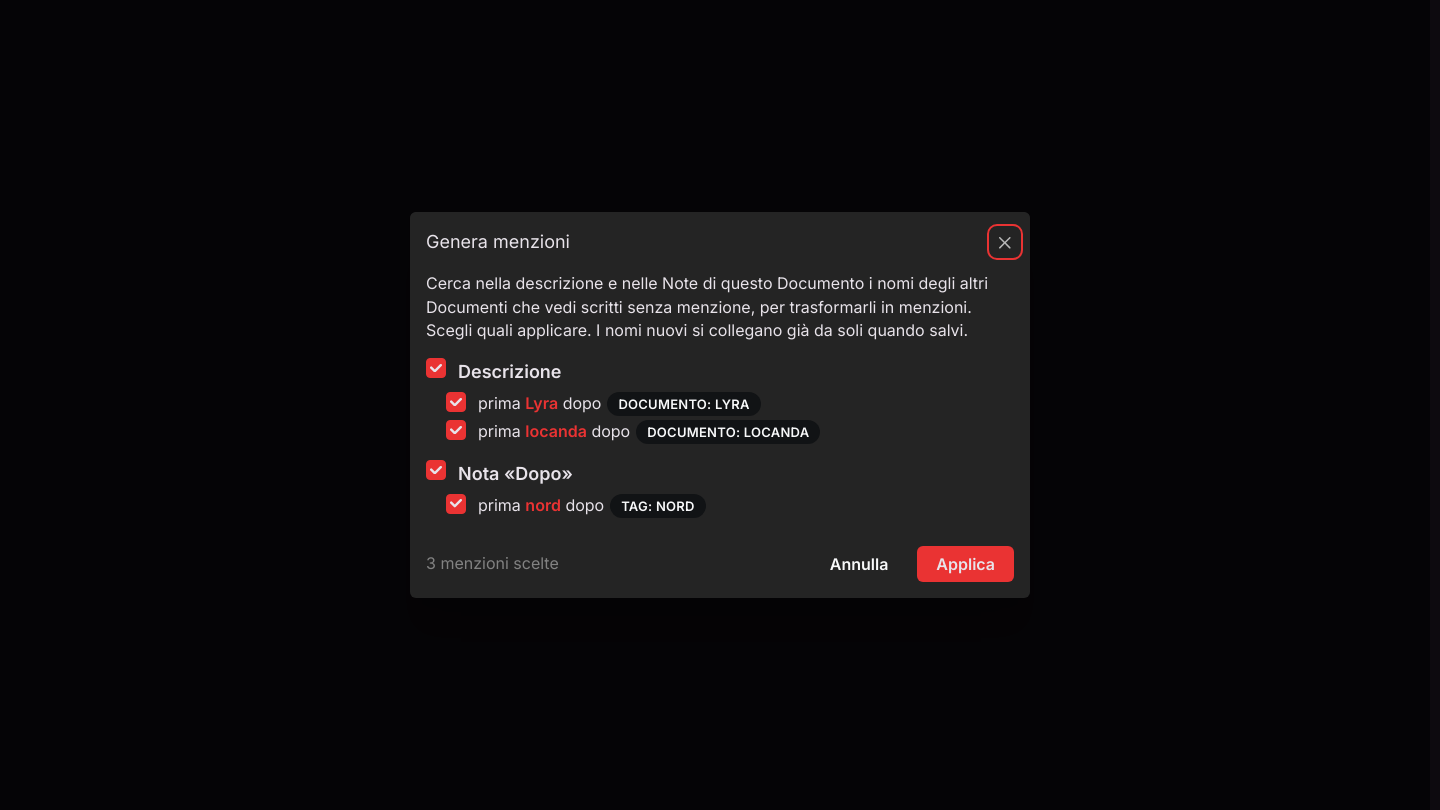
it: GenerateMentionsModal › a text checkbox clears and selects all of its matches
Click the checkbox labelled "Descrizione". click: [436, 368]
box: [426,358,446,378]
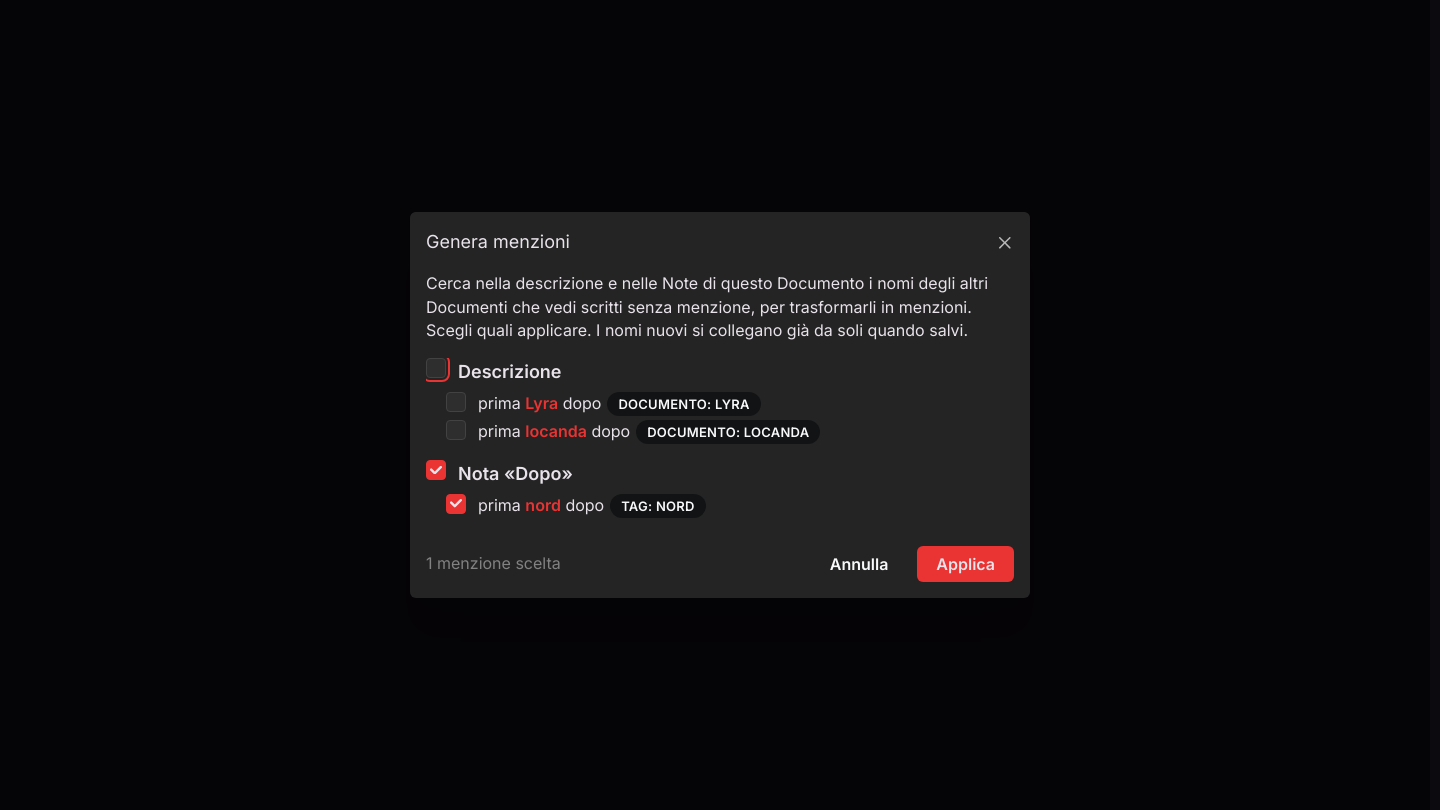
Expected: the text "1 menzione scelta" is shown, [426,552,561,575]
Click the checkbox labelled "Nota «Dopo»". click: [436, 470]
box: [426,460,446,480]
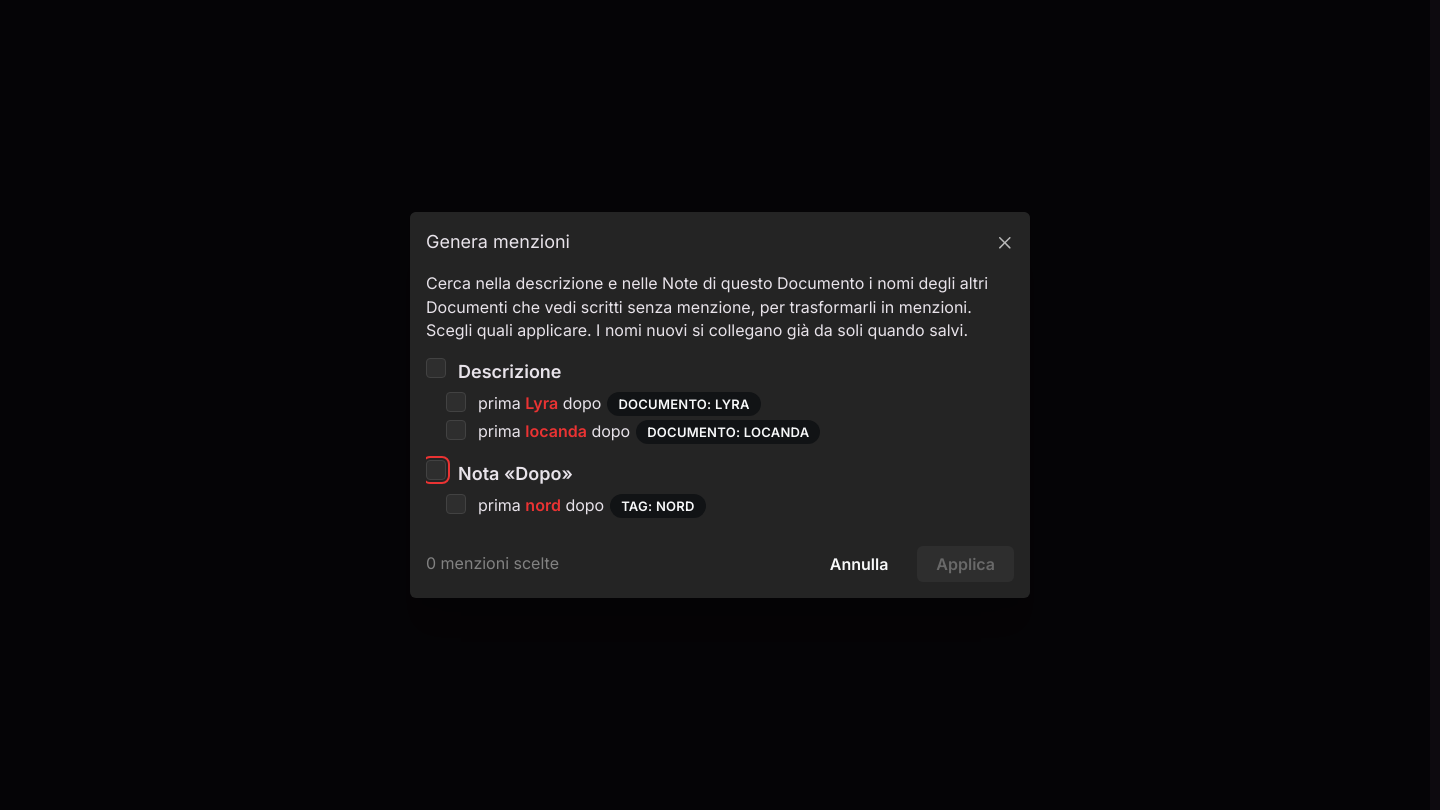
Expected: the button "Applica" is disabled, [917,546,1014,582]
Click the checkbox labelled "Descrizione". click: [436, 368]
box: [426,358,446,378]
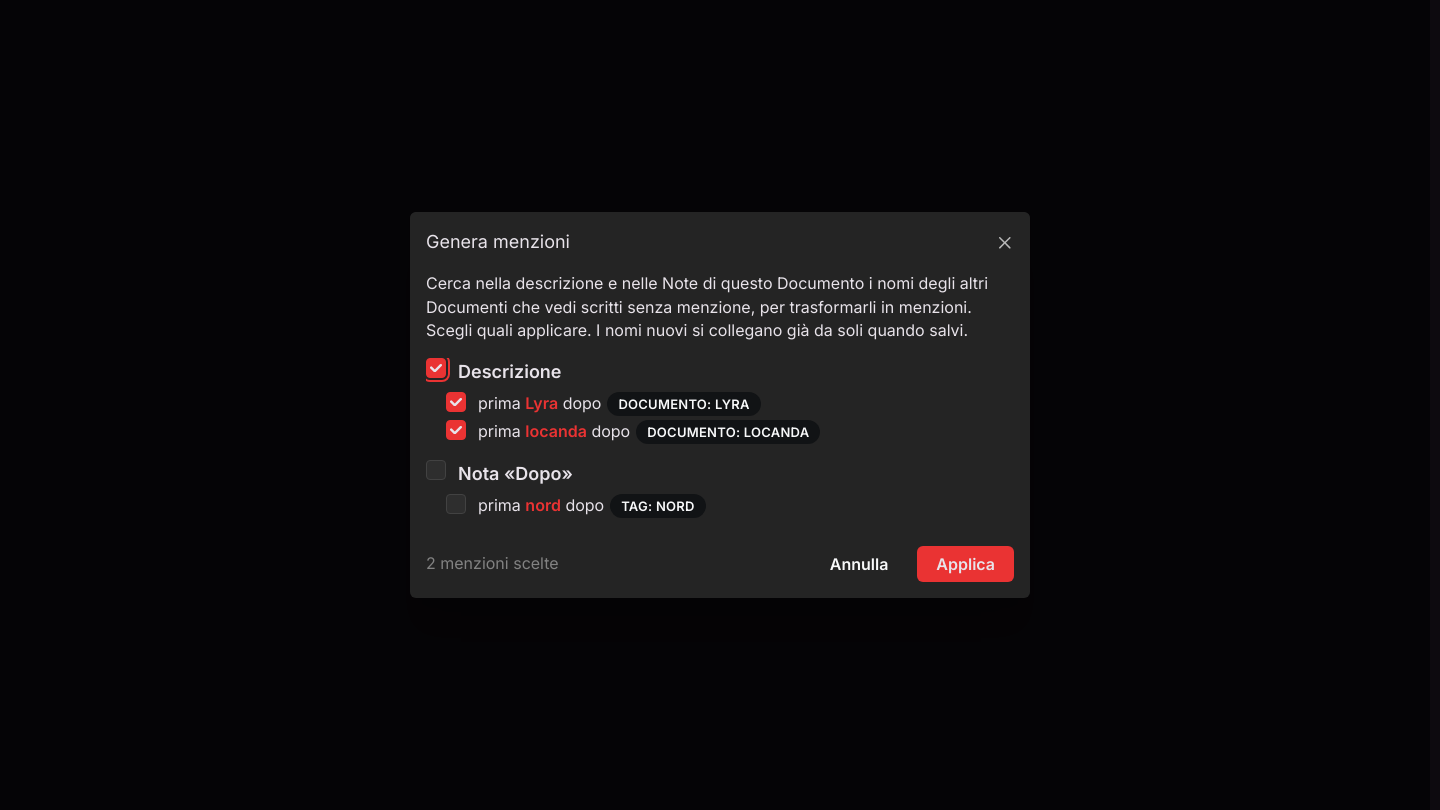
Expected: the text "2 menzioni scelte" is shown, [426,552,559,575]
